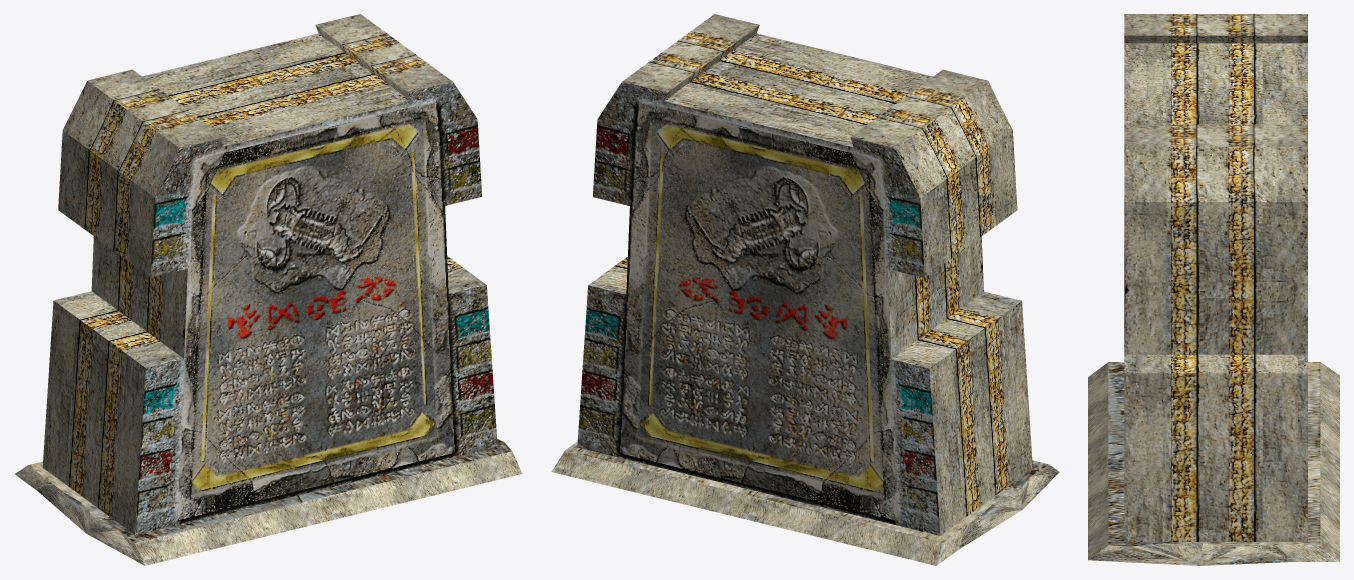
The model's file is Totem_Large_Center.fbx.
The picture shows the model from 3 angles, left to right: view 1: azimuth 30°, elevation 25°; view 2: azimuth 150°, elevation 25°; view 3: azimuth 270°, elevation 25°; orthographic projection.
Visible parts, largest first — view 1: object_3; view 2: object_3; view 3: object_3.
Part boxes in pixels (<box>): object_3: <box>14,14,522,565</box>; object_3: <box>551,14,1059,565</box>; object_3: <box>1088,14,1339,565</box>.
Size of the model in its own units: 574 by 536 by 314.
